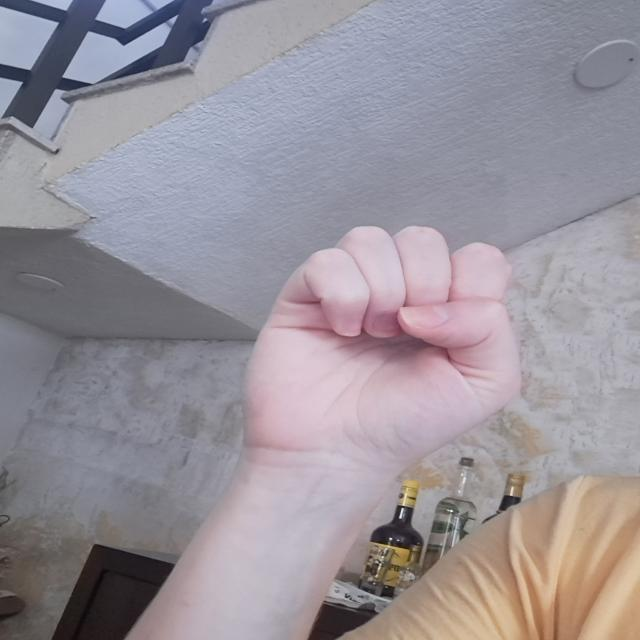S: (227, 220, 534, 472)
